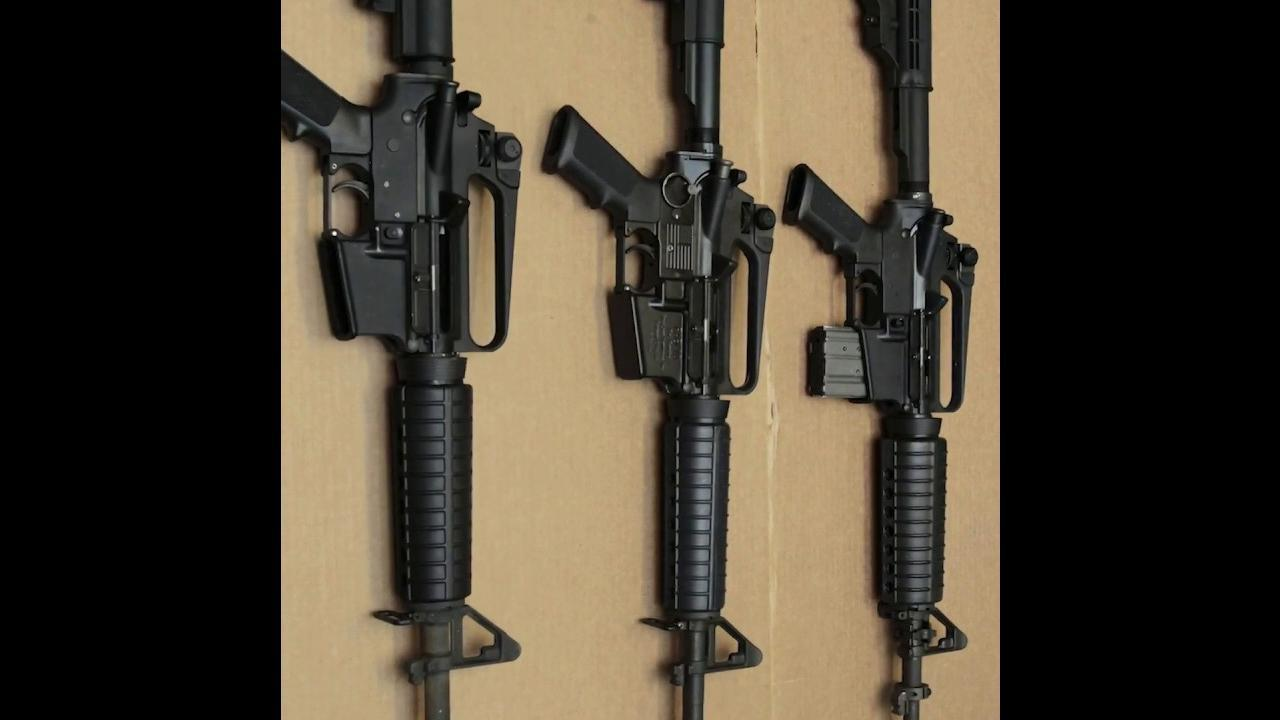gun: (280, 0, 525, 720), (550, 0, 779, 720), (774, 0, 993, 720)
